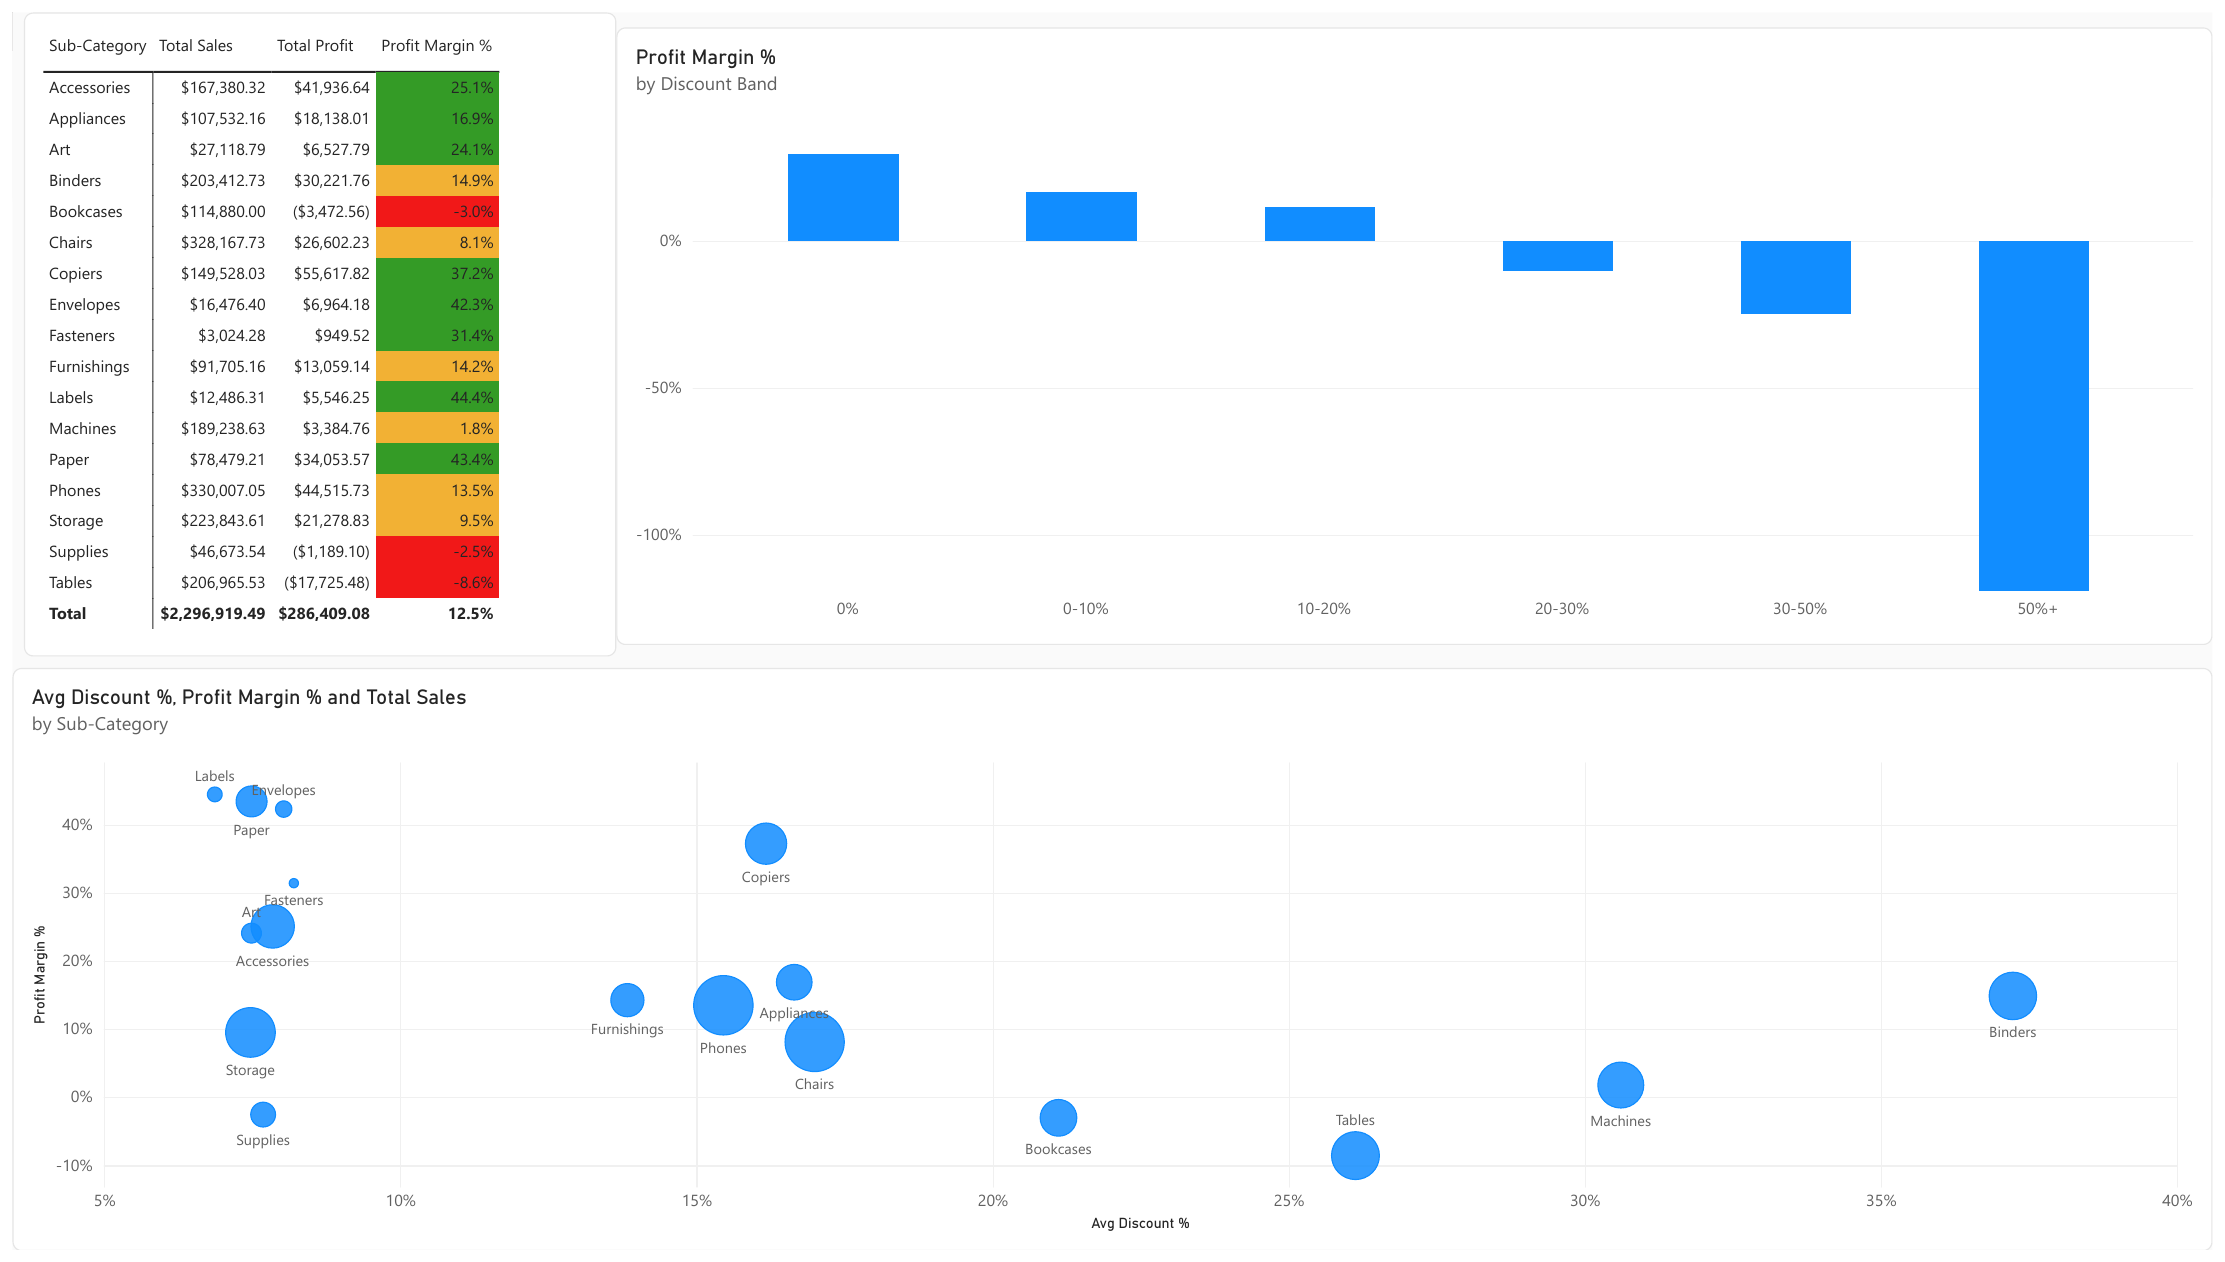

Layout of this report page (visuals, bound fields, positions):
{"tool":"powerbi","page":{"name":"Product Profitability","canvas":[1920,1080],"ordinal":1},"visuals":[{"type":"pivotTable","fields":{"Rows":["dim_product.Category","dim_product.Sub-Category"],"Values":["fact_orders.Total Sales","fact_orders.Total Profit","fact_orders.Profit Margin %"]},"box":[10.1,0,516.5,561.9],"z":0},{"type":"clusteredColumnChart","fields":{"Category":["fact_orders.Discount Band"],"Y":["fact_orders.Profit Margin %"]},"box":[526.6,12.6,1393.4,539.2],"z":1},{"type":"scatterChart","fields":{"Category":["dim_product.Sub-Category"],"Size":["fact_orders.Total Sales"],"X":["fact_orders.Avg Discount %"],"Y":["fact_orders.Profit Margin %"]},"box":[0,572,1920,509],"z":2}]}

Visuals, with their boxes in screenshot pixels (x1, y1, x2, y2), scaled from the page's 1920x1080 canvas onto the 2225x1262 screenshot:
pivotTable - dim_product.Category x dim_product.Sub-Category: (left=12, top=0, right=610, bottom=657)
clusteredColumnChart - fact_orders.Discount Band x fact_orders.Profit Margin %: (left=610, top=15, right=2224, bottom=645)
scatterChart - dim_product.Sub-Category x fact_orders.Total Sales: (left=0, top=668, right=2224, bottom=1261)
